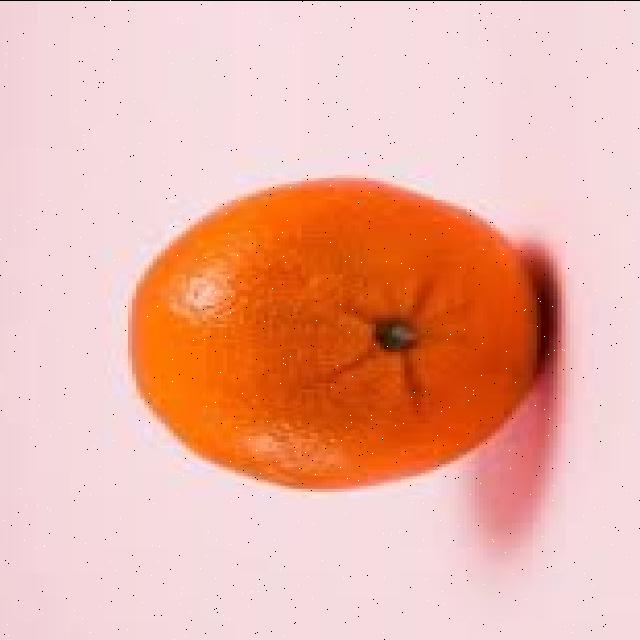Orange: (125, 175, 545, 492)
